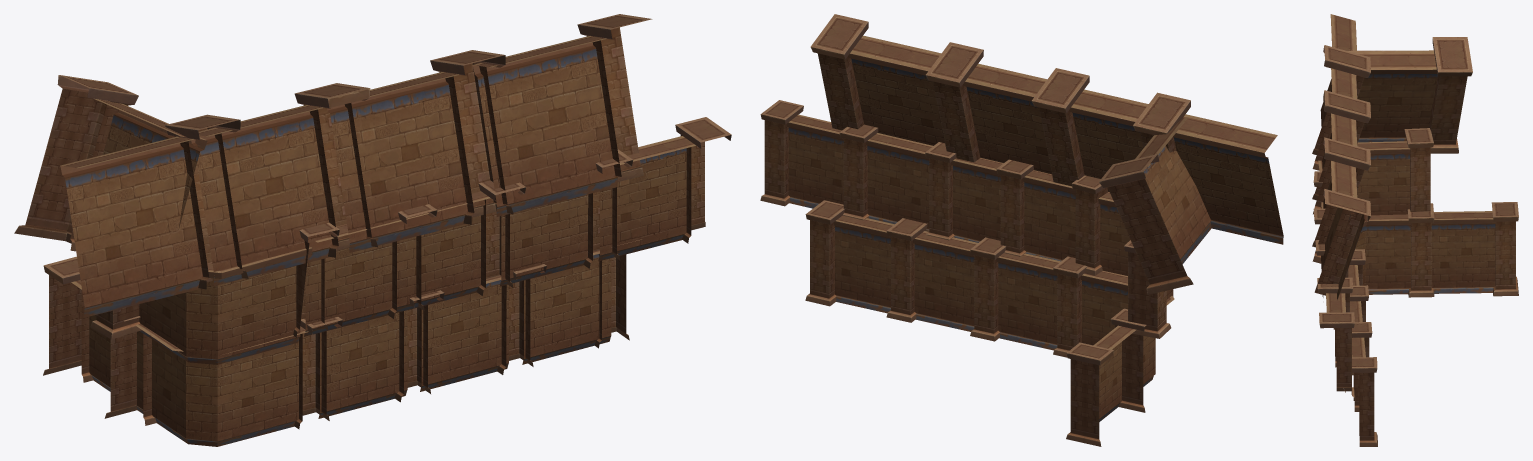
File: Area_02_1.FBX
3 renders of one model, left to right at view 1: azimuth 30°, elevation 25°; view 2: azimuth 150°, elevation 25°; view 3: azimuth 270°, elevation 25°, orthographic. The views are drawn at different scales.
Visible parts, largest first — view 1: Area_02_1; view 2: Area_02_1; view 3: Area_02_1.
Part boxes in pixels (x1=…): Area_02_1: x1=14, y1=14, x2=731, y2=446; Area_02_1: x1=760, y1=14, x2=1283, y2=446; Area_02_1: x1=1312, y1=14, x2=1518, y2=446.
Bounding box in the file's own units: 4666 × 2349 × 1811.
